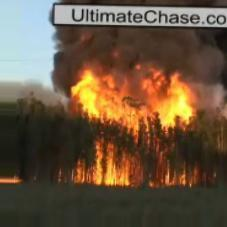fire: (141, 74, 195, 127), (67, 66, 115, 118), (72, 147, 132, 188)
smoke: (55, 27, 193, 72), (192, 36, 227, 129)
